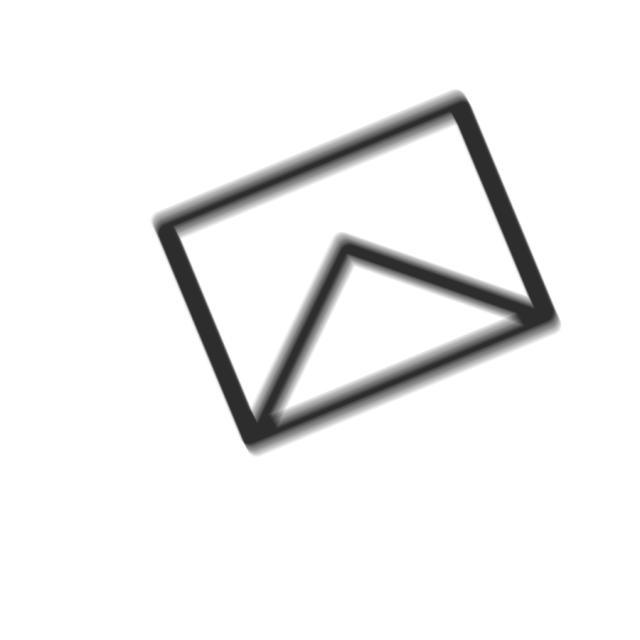letter: (148, 85, 565, 464)
